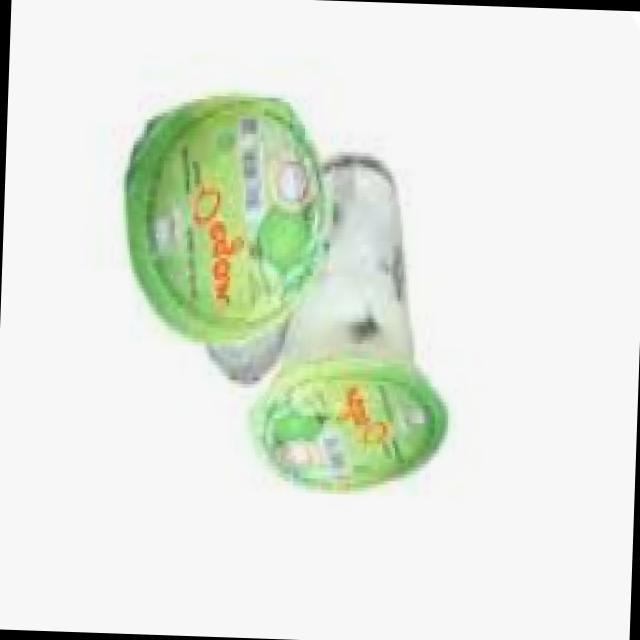GelasPlastik: (243, 156, 457, 501), (114, 92, 337, 394)
